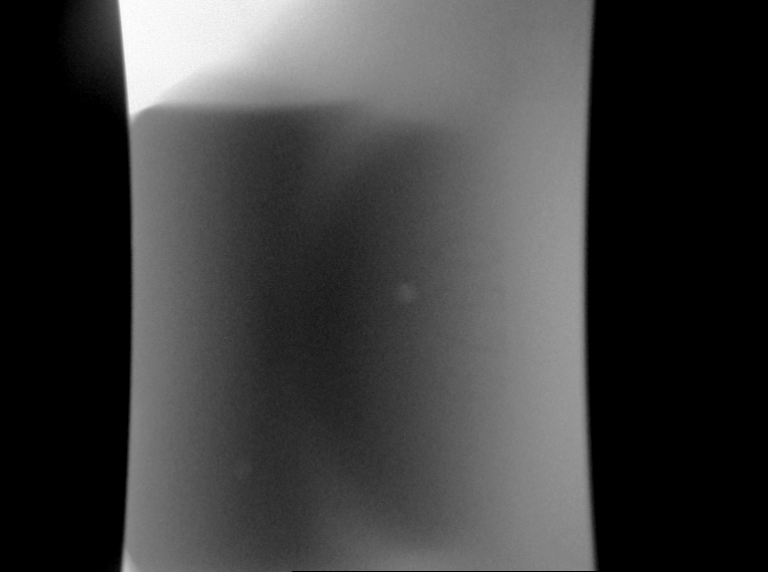defect: (229, 453, 254, 481)
